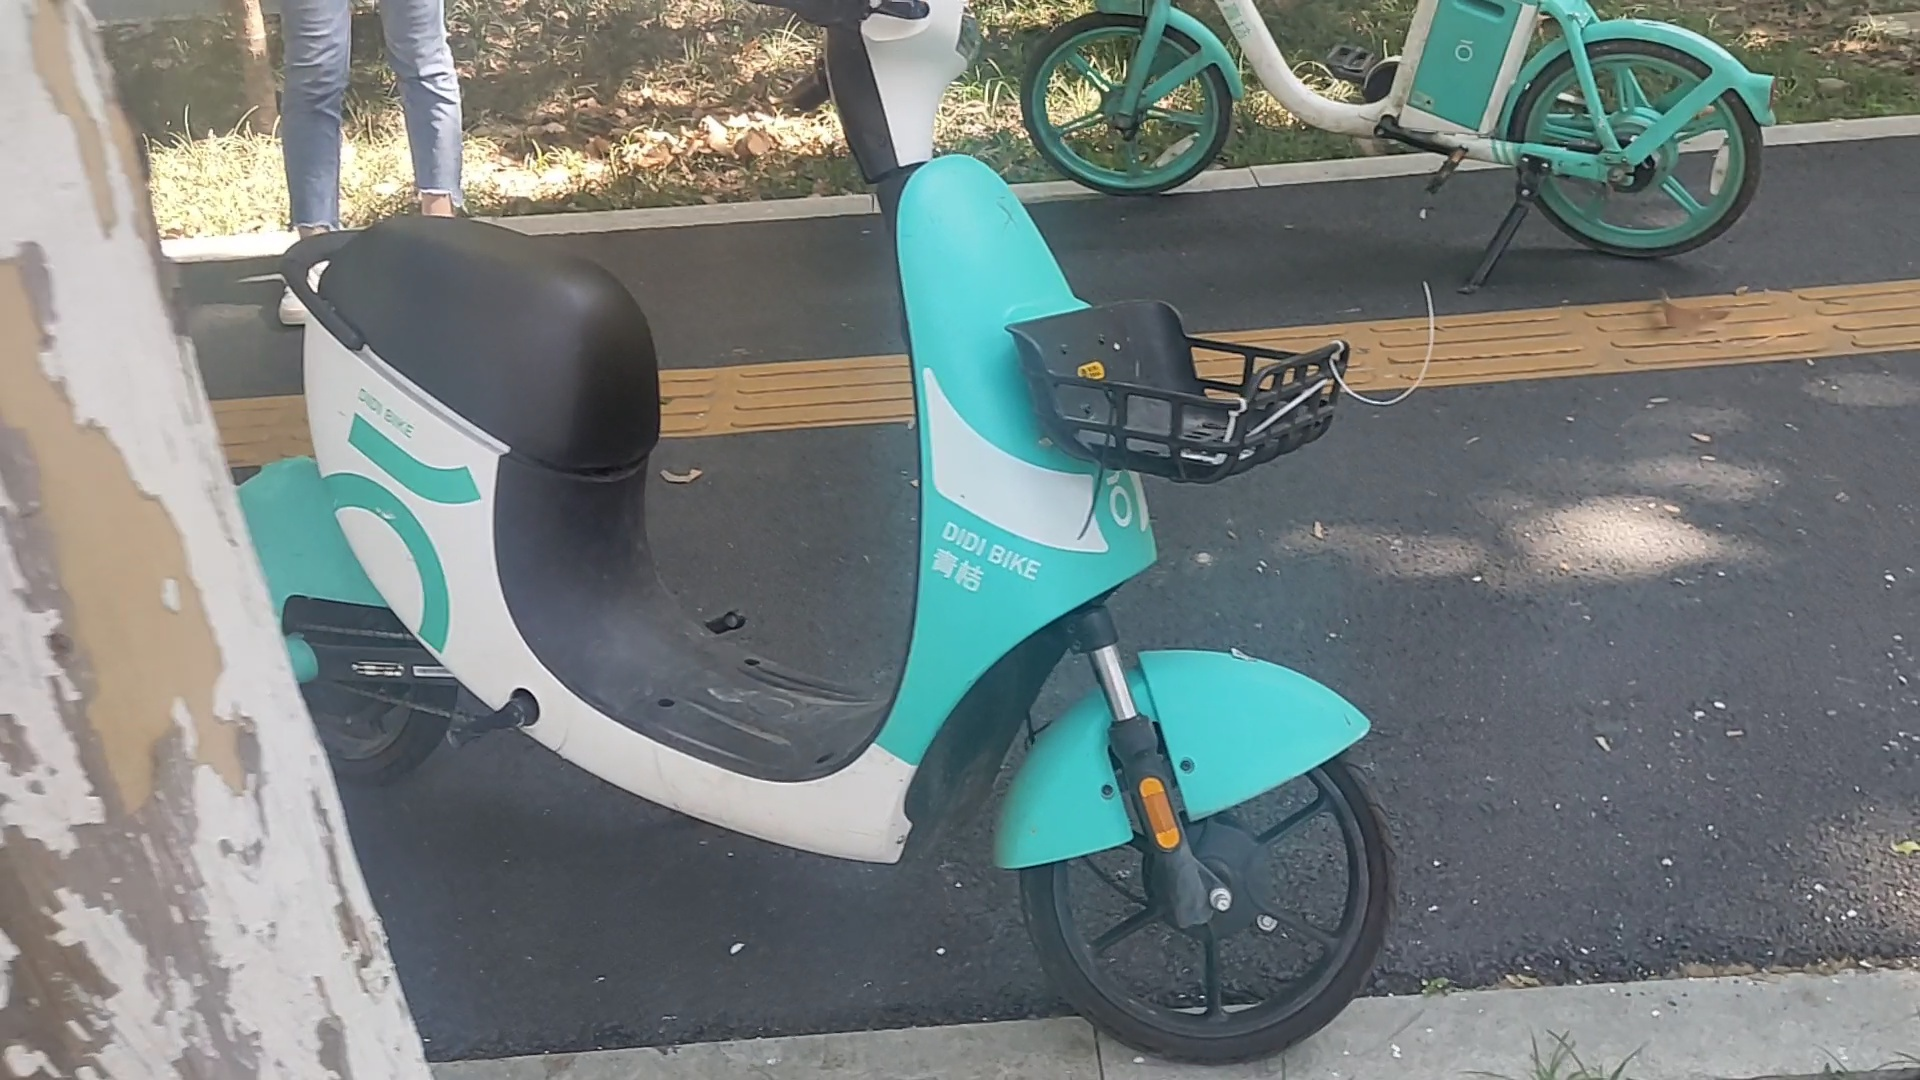non-vehicle: (218, 1, 1423, 1062), (1017, 0, 1771, 282)
